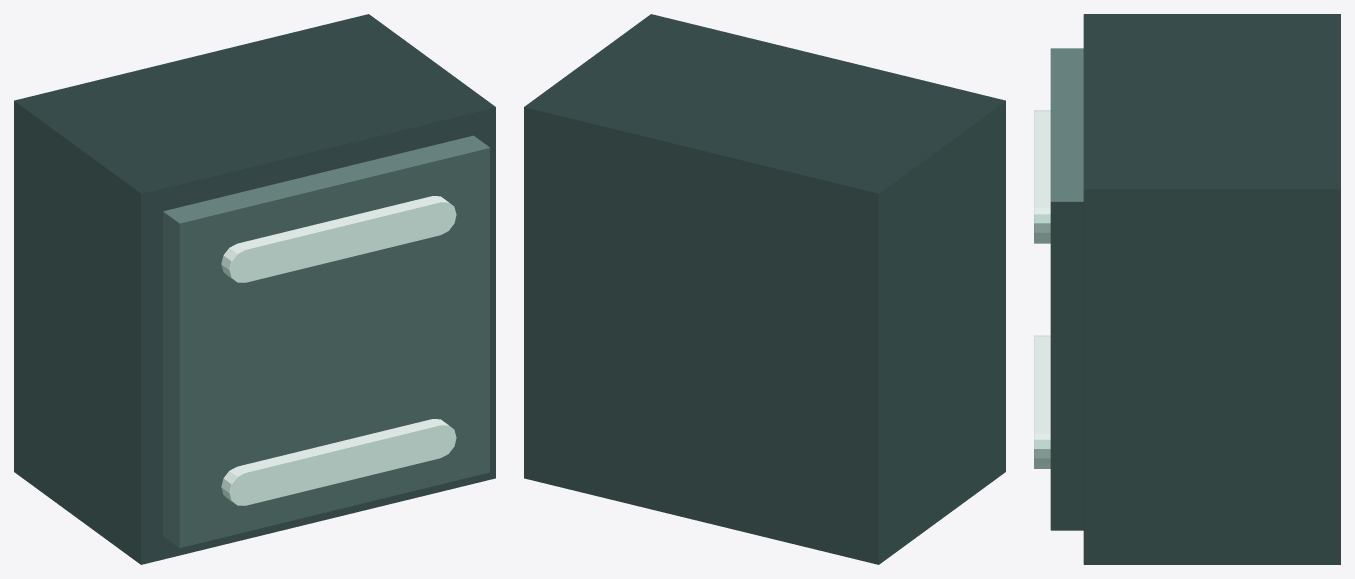
File: LockWall_Tile.gltf
3 renders of one model, left to right at view 1: azimuth 30°, elevation 25°; view 2: azimuth 150°, elevation 25°; view 3: azimuth 270°, elevation 25°, orthographic.
Parts seen in each view (by area): view 1: LockWall_Tile_baked; view 2: LockWall_Tile_baked; view 3: LockWall_Tile_baked.
Part boxes in pixels (<box>): LockWall_Tile_baked: <box>14,14,495,564</box>; LockWall_Tile_baked: <box>524,14,1005,564</box>; LockWall_Tile_baked: <box>1034,14,1340,564</box>.
Bounding box in the file's own units: 1 × 1 × 0.74.
